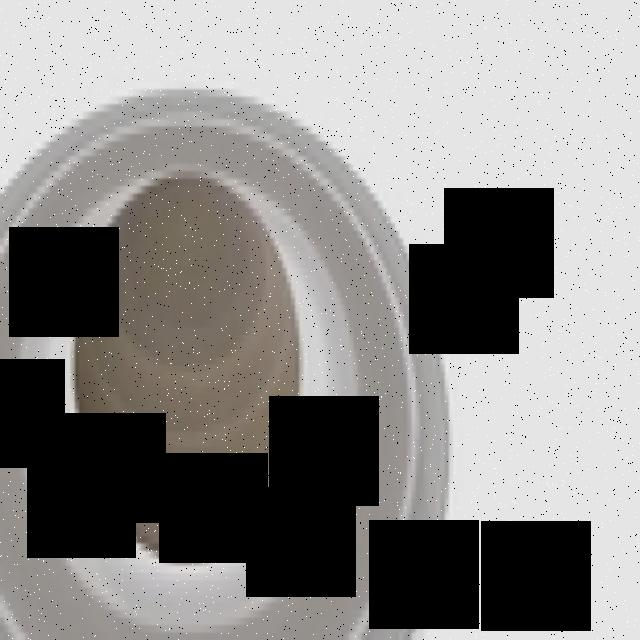Saturn: (0, 74, 453, 640)
